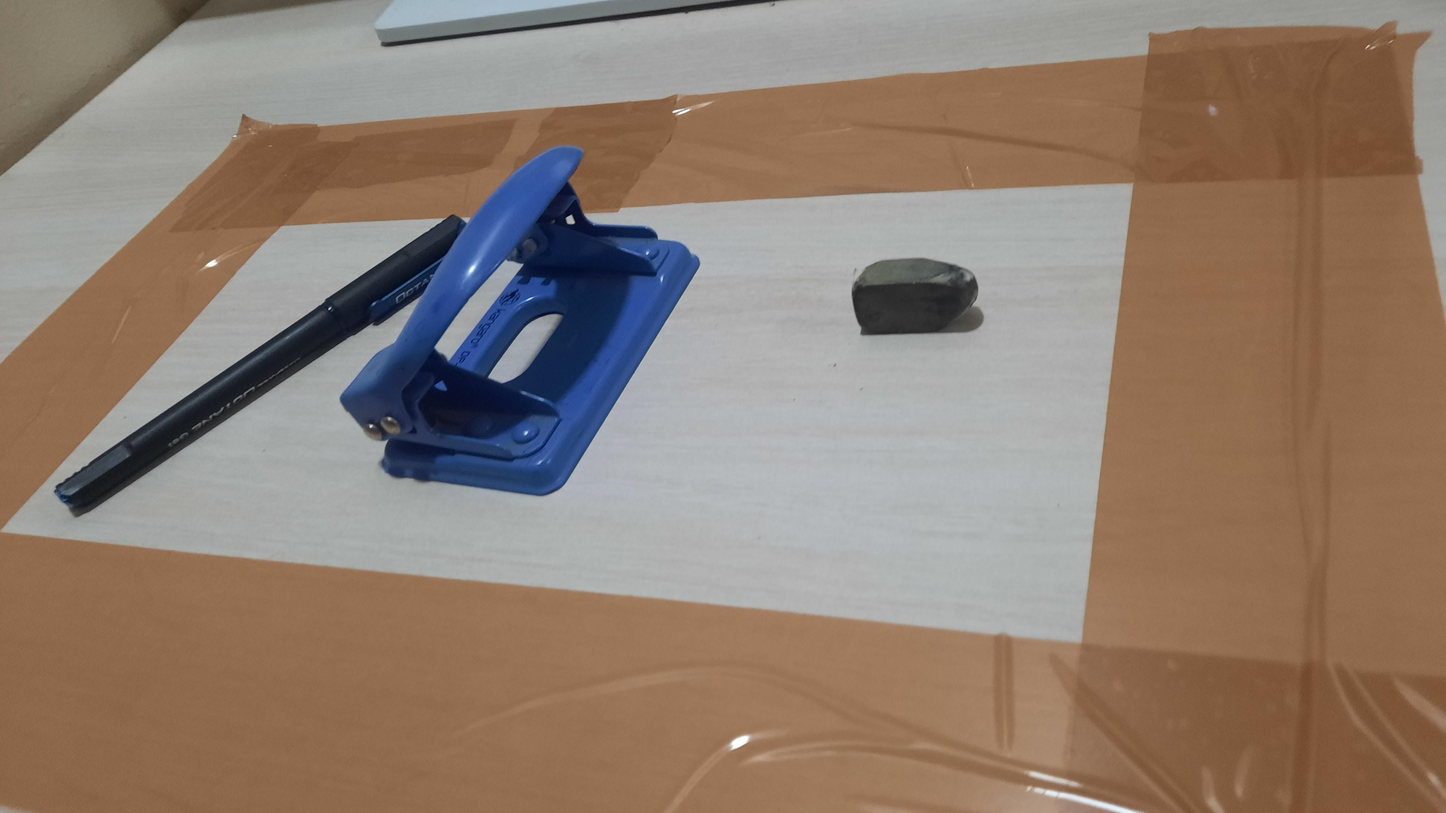Eraser: (851, 258, 979, 335)
Pen: (54, 215, 467, 517)
Punch: (339, 145, 701, 496)
